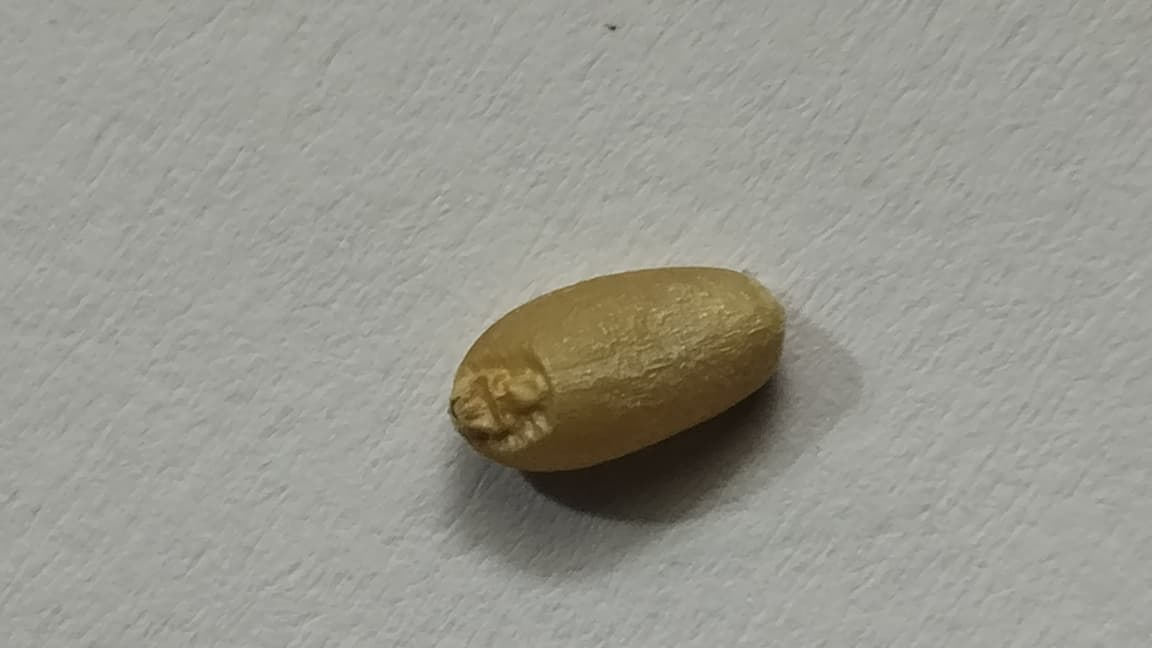healthy: (450, 266, 785, 469)
